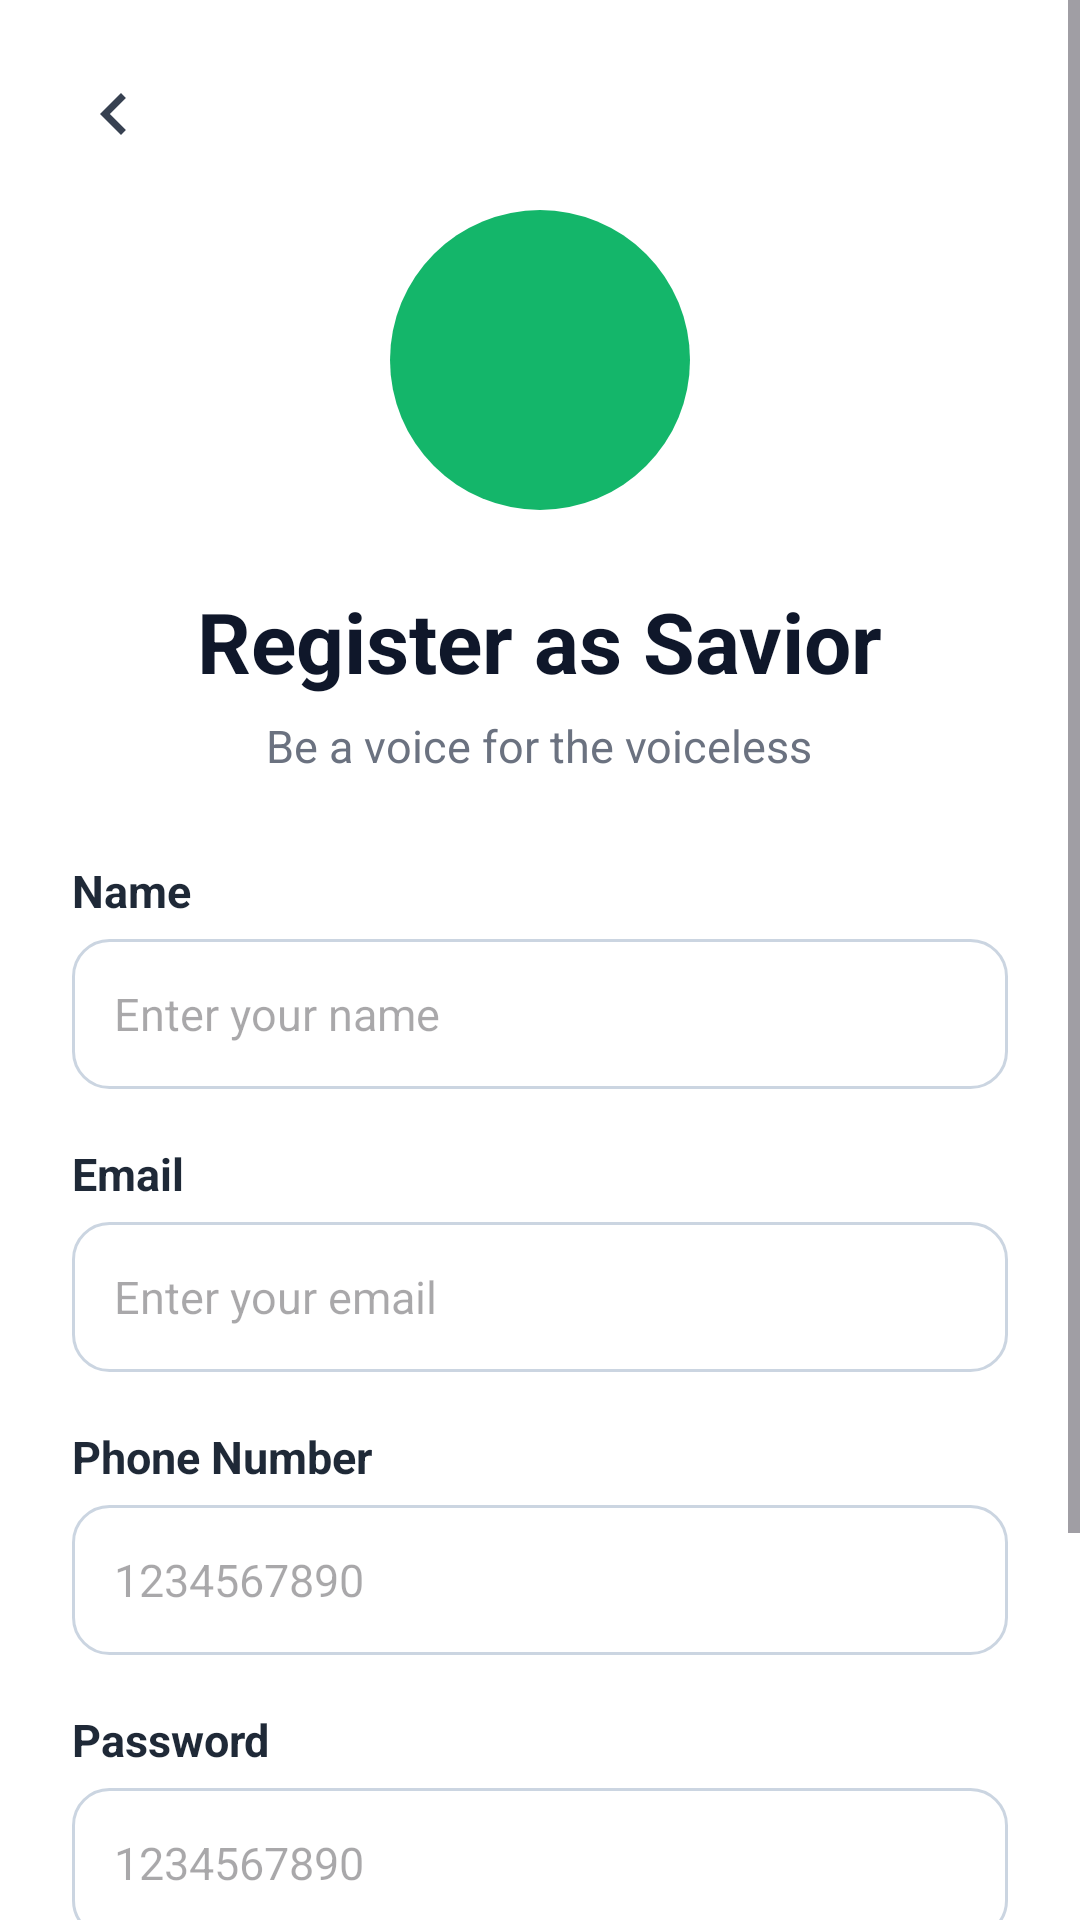

Point at icon controls on the screen. Image size 1080px×1920px, points as point (x, y).
back: point (113, 114)
